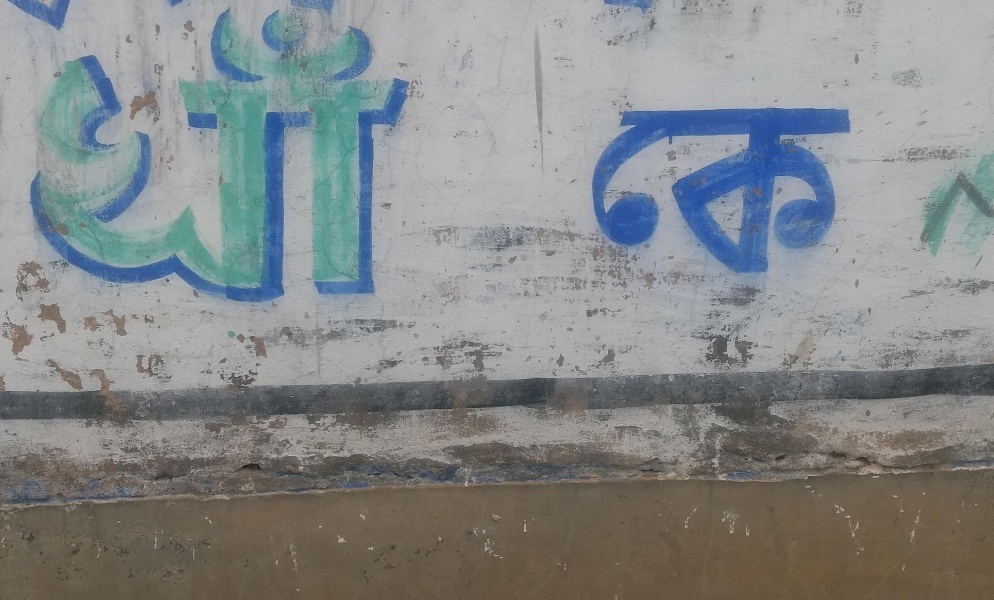text: (49, 3, 64, 314), (65, 3, 80, 314), (81, 3, 96, 314), (97, 3, 112, 314), (113, 3, 128, 314), (129, 3, 144, 314), (145, 3, 160, 314), (161, 3, 176, 314), (177, 3, 192, 314), (193, 3, 208, 314), (209, 3, 224, 314), (225, 3, 240, 314), (241, 3, 256, 314), (257, 3, 272, 314), (273, 3, 288, 314), (289, 3, 304, 314), (305, 3, 320, 314), (321, 3, 336, 314), (337, 3, 352, 314), (353, 3, 368, 314), (369, 3, 384, 314), (385, 3, 400, 314), (401, 3, 412, 314), (609, 90, 624, 278), (625, 90, 640, 278), (641, 90, 656, 278), (657, 90, 672, 278), (673, 90, 688, 278), (689, 90, 704, 278), (705, 90, 720, 278), (721, 90, 736, 278), (737, 90, 752, 278), (753, 90, 768, 278), (769, 90, 784, 278), (785, 90, 800, 278), (801, 90, 816, 278), (817, 90, 832, 278), (833, 90, 848, 278), (41, 3, 48, 314), (849, 90, 858, 278), (929, 165, 944, 260), (945, 165, 960, 260), (961, 165, 976, 260), (977, 165, 992, 260), (601, 90, 608, 278), (919, 165, 928, 260), (17, 1, 32, 28), (33, 1, 48, 28), (49, 1, 64, 28), (65, 1, 72, 28), (11, 1, 16, 28)
